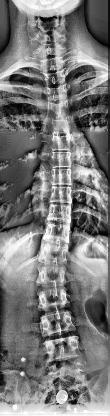Vertebrae: (41, 311, 77, 335), (44, 338, 82, 360), (36, 289, 70, 309), (38, 266, 68, 288), (40, 243, 68, 265), (43, 224, 71, 242), (47, 204, 72, 223), (50, 134, 72, 152), (50, 186, 72, 204), (47, 102, 71, 118), (46, 86, 69, 102), (50, 118, 72, 134), (50, 169, 72, 185), (42, 58, 64, 72), (50, 153, 72, 167), (44, 73, 68, 85)
